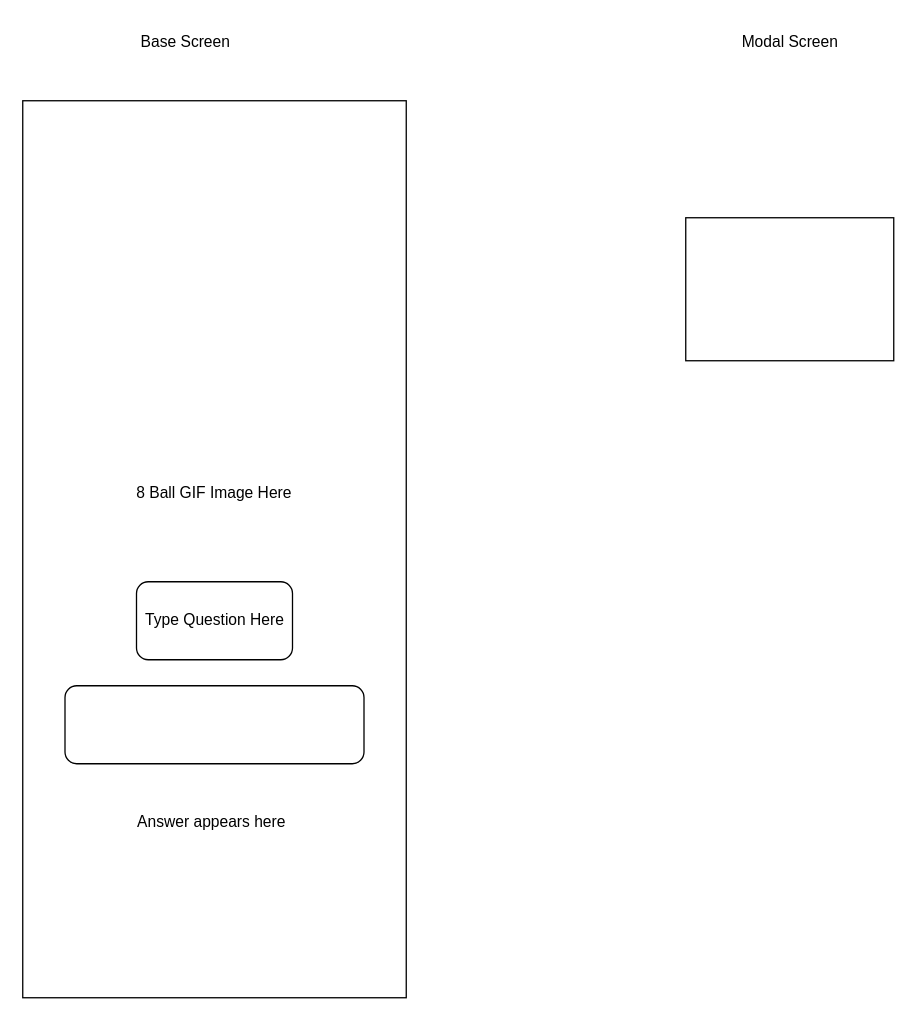
Some shapes in this 916 by 1020 pixel diagram are drawn without their labels. The shapes that lost their labels are listed below. From the top down, each one's centre as x and y in pixels, then its label:
At (x=789, y=288): "Detailed Answer Random Answer here".
At (x=214, y=724): "Ask Jaden Fisher's Mysterious 8 Ball".
